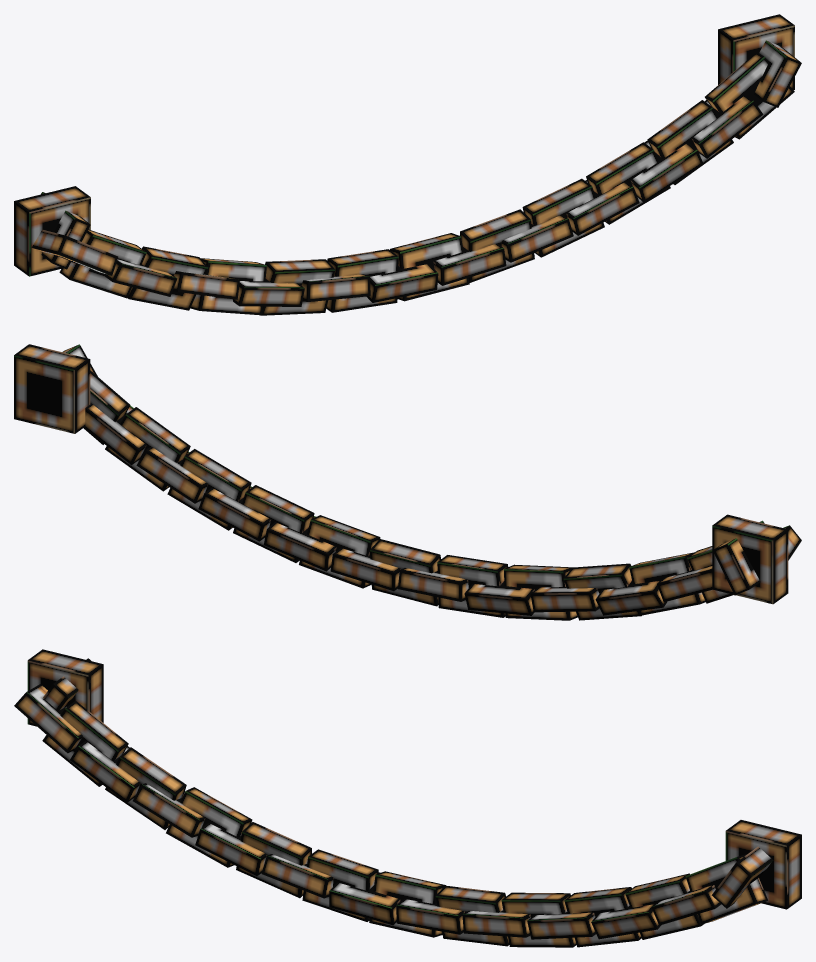
File: deco_chainsRusty.FBX
3 renders of one model, top to bottom at view 1: azimuth 30°, elevation 25°; view 2: azimuth 150°, elevation 25°; view 3: azimuth 330°, elevation 25°, orthographic.
Visible parts, largest first — view 1: deco_chainsRusty; view 2: deco_chainsRusty; view 3: deco_chainsRusty.
Boxes of the visible parts, box(x1,y1,x2,y2) form: deco_chainsRusty: box(14, 14, 801, 315); deco_chainsRusty: box(14, 344, 801, 620); deco_chainsRusty: box(14, 649, 801, 947).
Size of the model in its own units: 4.35 by 0.9207 by 0.4723.
1 material, 1 textured.
